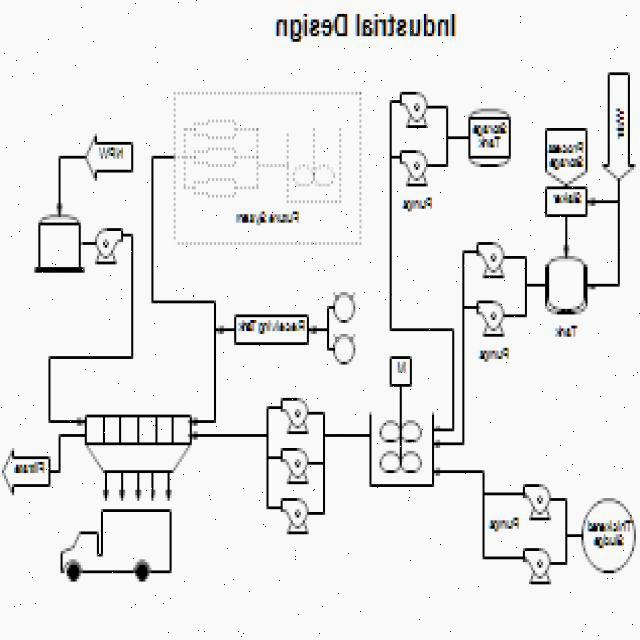Centrifugal Pump: (270, 486, 314, 558), (90, 212, 132, 278), (520, 470, 562, 534), (276, 377, 318, 438), (396, 136, 434, 194), (524, 538, 558, 600), (398, 86, 437, 132), (473, 289, 508, 340), (276, 436, 310, 487), (473, 238, 510, 280)
